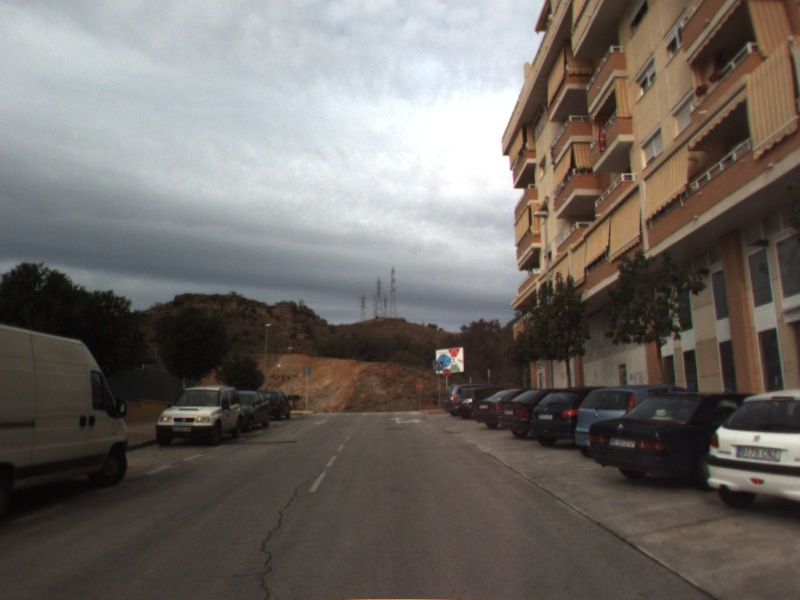STRAIGHT_RIGHT: (388, 414, 423, 426)
